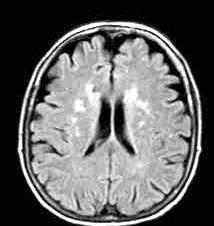Normal_Brain: (1, 1, 214, 226)
